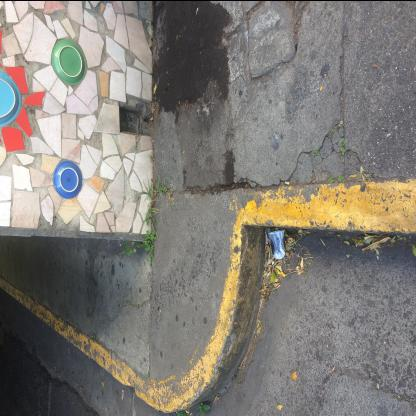karton: (269, 230, 287, 260)
